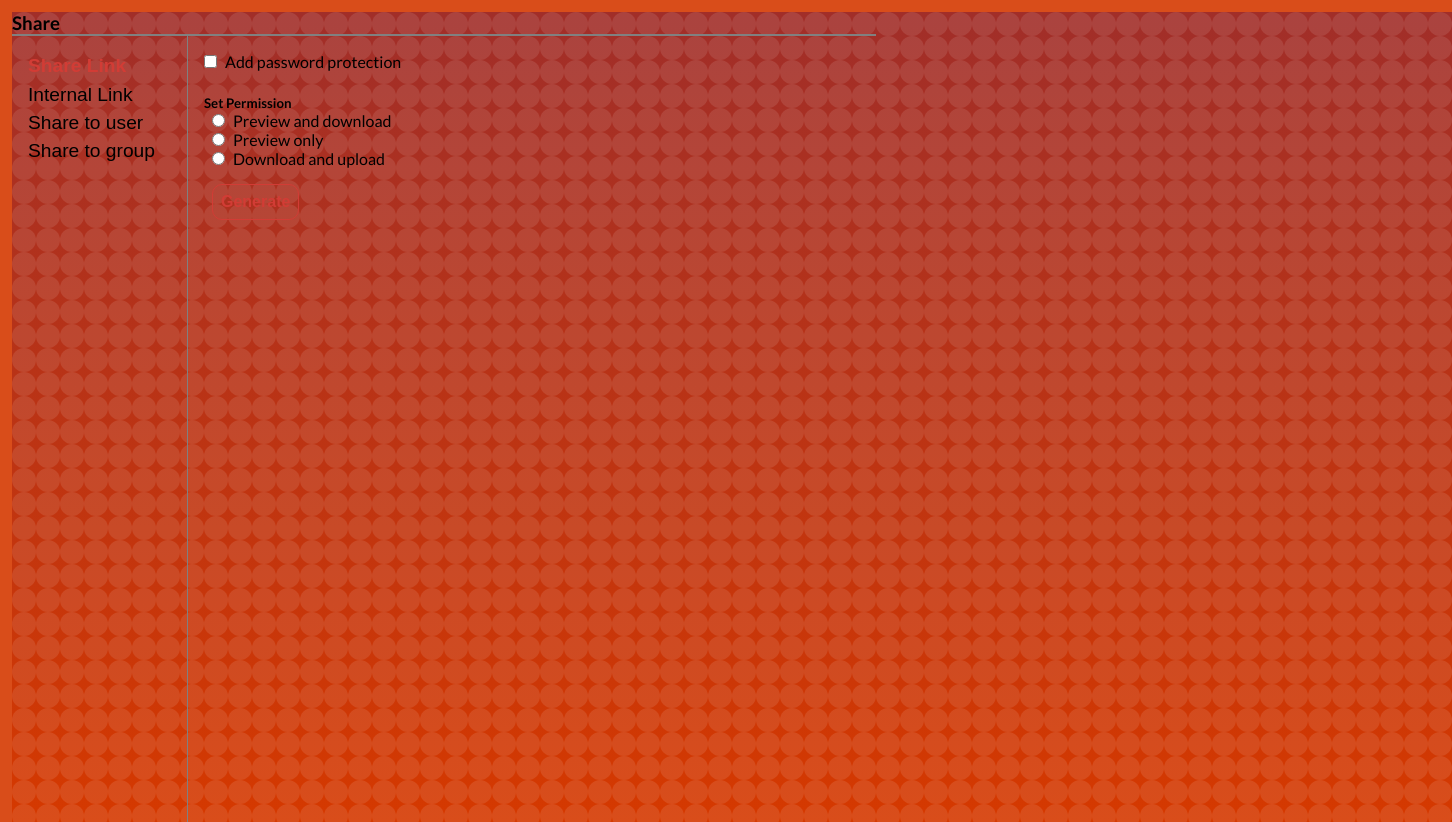
it: Share › should show password filds if "Add password protection" is clicked
This screenshot has width=1452, height=822.
Click the text "Add password protection": (309, 62) [217,52,401,71]
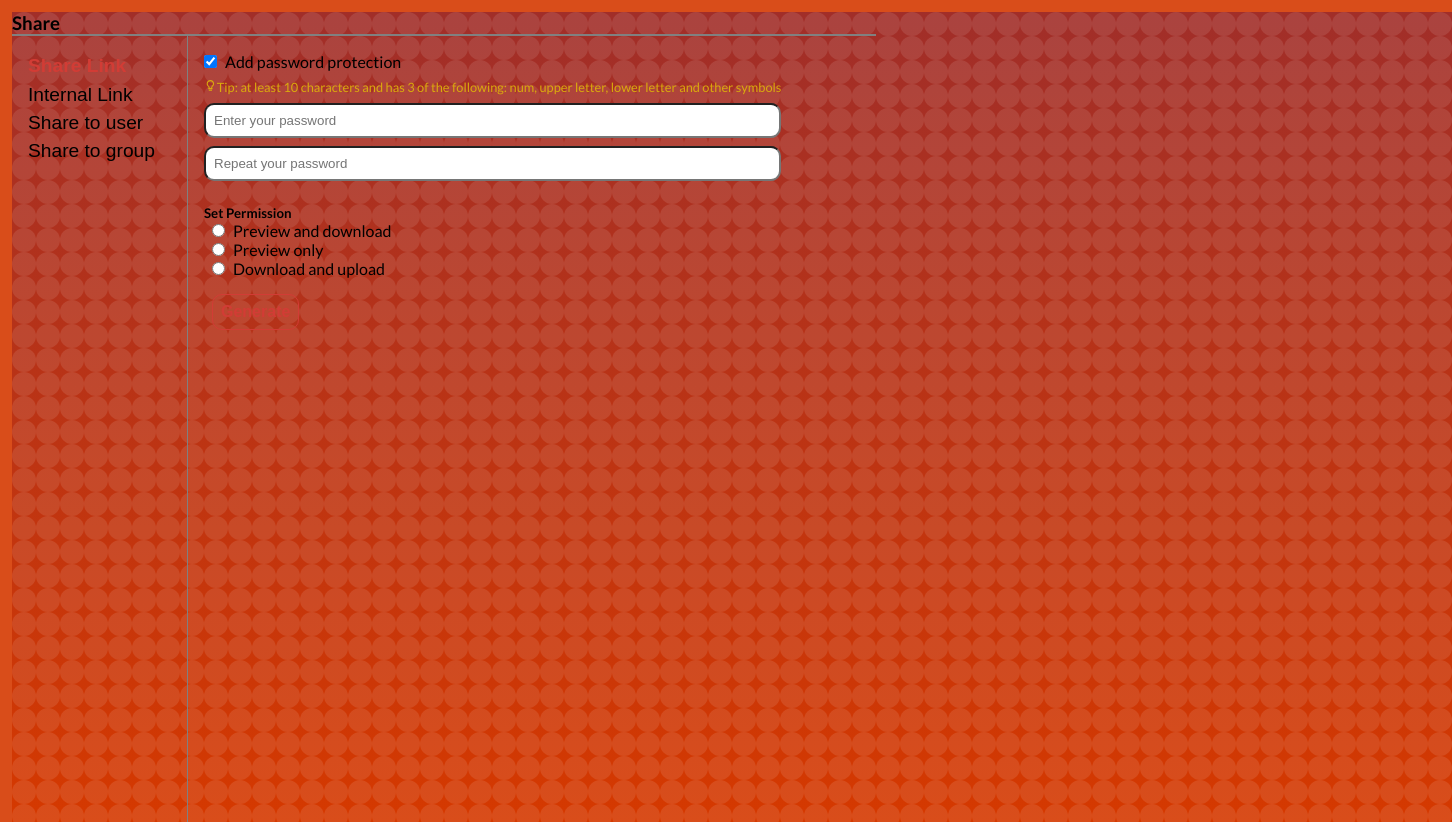
Expected: the password field with placeholder "Enter your password" is shown, [204,103,781,138]
Expected: the password field with placeholder "Repeat your password" is shown, [204,146,781,181]
